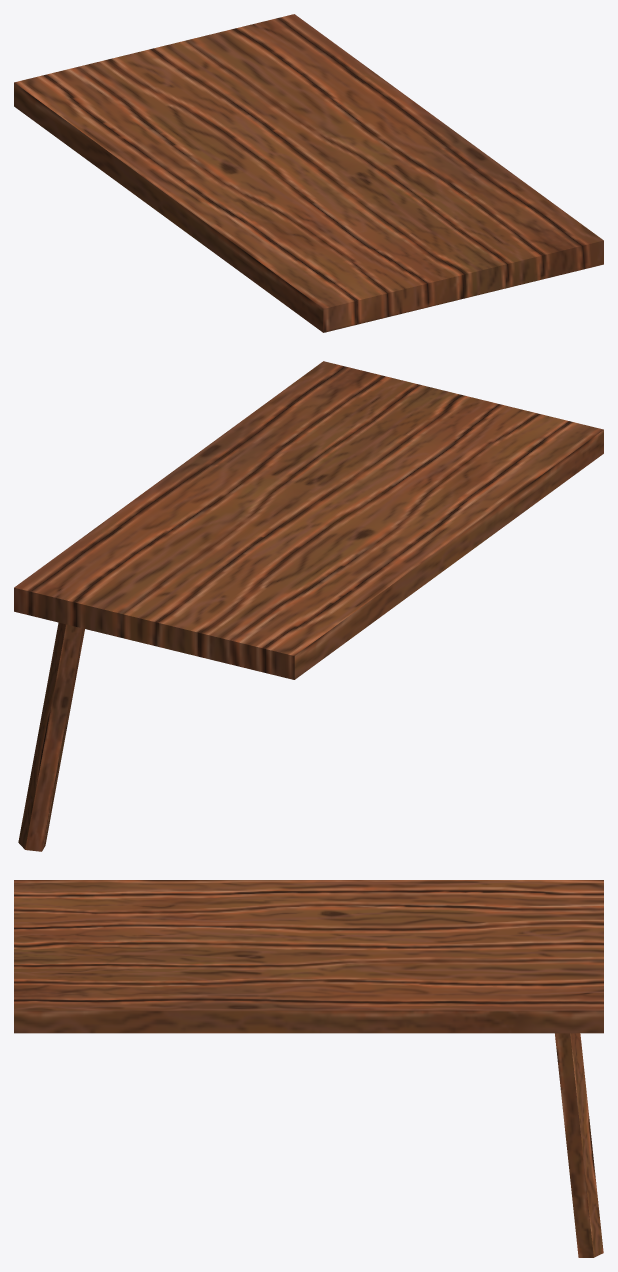
The model's file is table.glb.
The picture shows the model from 3 angles, top to bottom: view 1: azimuth 30°, elevation 25°; view 2: azimuth 150°, elevation 25°; view 3: azimuth 270°, elevation 25°; orthographic projection. The views are drawn at different scales.
Parts seen in each view (by area): view 1: Cube; view 2: Cube, Cylinder; view 3: Cube, Cylinder.
Part boxes in pixels (bbox=[...]): Cube: bbox=[14, 14, 603, 332]; Cube: bbox=[14, 361, 603, 679]; Cylinder: bbox=[18, 622, 84, 851]; Cube: bbox=[14, 880, 603, 1033]; Cylinder: bbox=[555, 1033, 603, 1257].
Bounding box in the file's own units: 2.01 × 1.79 × 3.82.
1 material, 1 textured.
